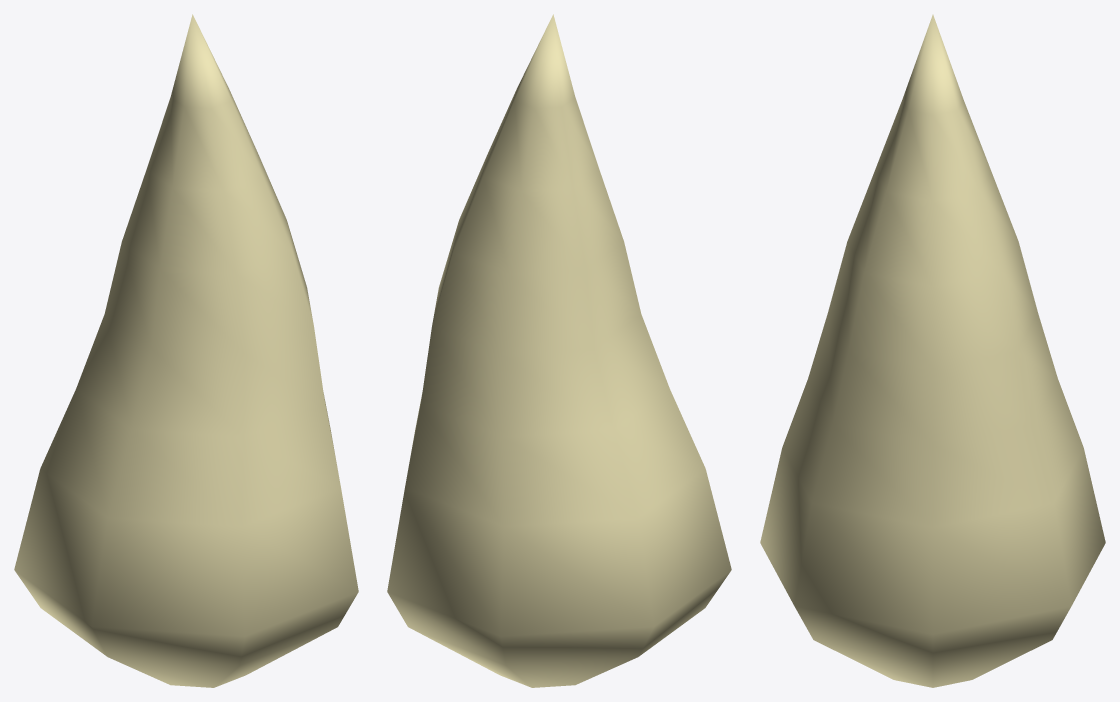
The model's file is Broad Thorn.fbx.
The picture shows the model from 3 angles, left to right: view 1: azimuth 30°, elevation 25°; view 2: azimuth 150°, elevation 25°; view 3: azimuth 270°, elevation 25°; orthographic projection.
Visible parts, largest first — view 1: Broad Thorn - gigas18 (Mr Fear); view 2: Broad Thorn - gigas18 (Mr Fear); view 3: Broad Thorn - gigas18 (Mr Fear).
Boxes of the visible parts, bbox=[...] form: Broad Thorn - gigas18 (Mr Fear): bbox=[14, 14, 358, 687]; Broad Thorn - gigas18 (Mr Fear): bbox=[387, 14, 731, 687]; Broad Thorn - gigas18 (Mr Fear): bbox=[760, 14, 1105, 687].
Size of the model in its own units: 24.97 by 53.72 by 25.61.
